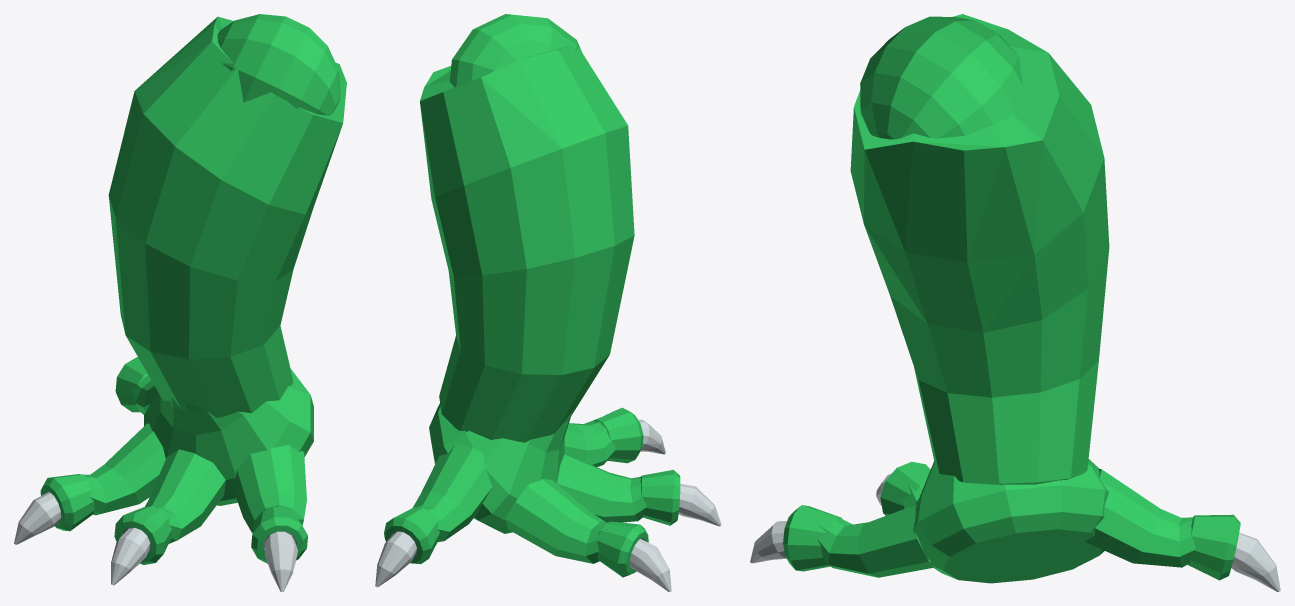
The model's file is Second_GreenLeg.fbx.
The picture shows the model from 3 angles, left to right: view 1: azimuth 30°, elevation 25°; view 2: azimuth 150°, elevation 25°; view 3: azimuth 270°, elevation 25°; orthographic projection. The views are drawn at different scales.
Parts seen in each view (by area): view 1: group940515321, group1142560514, group489508894, group1657471406, group1815783311, group961104201, group1427719167; view 2: group940515321, group1815783311, group1427719167, group1657471406, group1142560514, group489508894, group961104201; view 3: group940515321, group1142560514, group489508894, group1427719167, group961104201, group1657471406.
Part boxes in pixels (x1,y1,x2,y2): group940515321: [108, 16, 346, 417]; group1142560514: [144, 368, 313, 505]; group489508894: [217, 14, 340, 115]; group1657471406: [111, 449, 225, 585]; group1815783311: [14, 423, 165, 544]; group961104201: [232, 445, 307, 591]; group1427719167: [115, 357, 157, 414]; group940515321: [420, 43, 634, 442]; group1815783311: [505, 479, 671, 591]; group1427719167: [375, 444, 492, 587]; group1657471406: [556, 453, 721, 526]; group1142560514: [429, 403, 572, 533]; group489508894: [449, 14, 581, 87]; group961104201: [564, 407, 665, 466]; group940515321: [850, 14, 1109, 484]; group1142560514: [913, 459, 1108, 583]; group489508894: [860, 16, 1022, 139]; group1427719167: [1084, 469, 1280, 591]; group961104201: [750, 504, 934, 577]; group1657471406: [876, 461, 930, 515].
Size of the model in its own units: 30.67 by 52.09 by 42.22.
